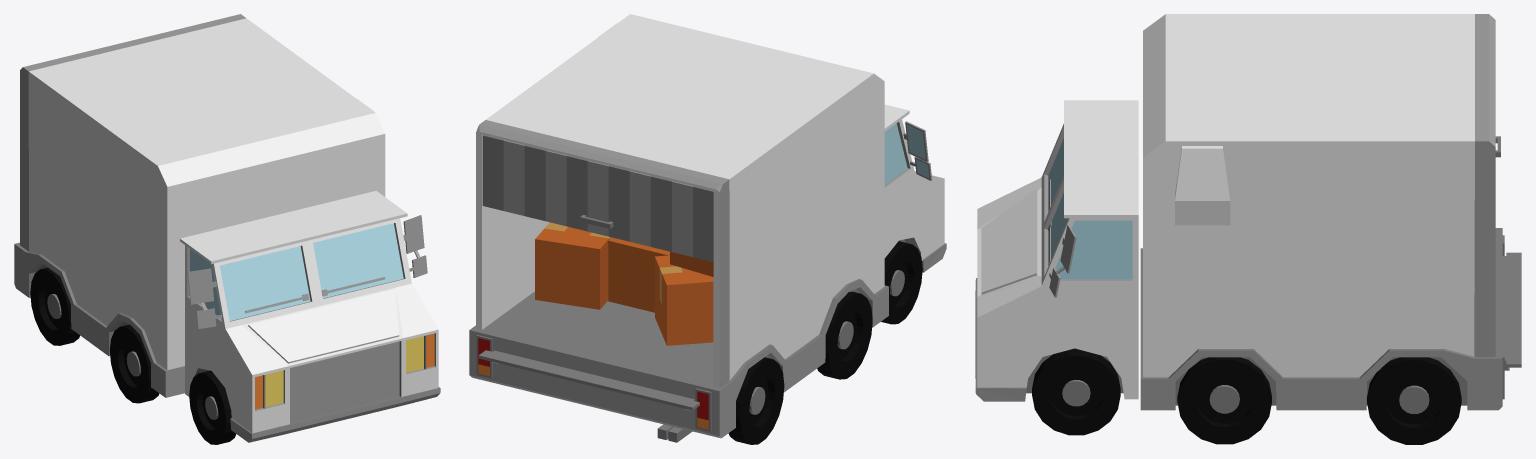
The model's file is Truck_Model.FBX.
3 renders of one model, left to right at view 1: azimuth 30°, elevation 25°; view 2: azimuth 150°, elevation 25°; view 3: azimuth 270°, elevation 25°, orthographic. The views are drawn at different scales.
Parts seen in each view (by area): view 1: Truck_model, Wiel_midden, Wiel_achter, Wiel_voor; view 2: Truck_model, Achterkap_deur, Doos005, Doos008, Wiel_achter, Wiel_midden, Doos2, Wiel_voor, Doos012; view 3: Truck_model, Wiel_achter, Wiel_midden, Wiel_voor.
Boxes of the visible parts, x1,y1,x2,y2 form: Truck_model: (14, 14, 440, 442); Wiel_midden: (109, 325, 159, 403); Wiel_achter: (30, 267, 79, 345); Wiel_voor: (189, 370, 236, 444); Truck_model: (469, 14, 946, 442); Achterkap_deur: (482, 135, 713, 262); Doos005: (535, 222, 611, 309); Doos008: (655, 255, 713, 345); Wiel_achter: (728, 357, 784, 444); Wiel_midden: (817, 291, 872, 379); Doos2: (608, 237, 669, 312); Wiel_voor: (881, 241, 922, 324); Doos012: (670, 251, 713, 276); Truck_model: (975, 14, 1521, 410); Wiel_achter: (1367, 357, 1461, 444); Wiel_midden: (1177, 357, 1271, 444); Wiel_voor: (1032, 348, 1120, 435).
Size of the model in its own units: 4424 by 7408 by 4509.
